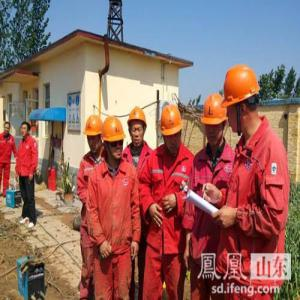none: (21, 122, 30, 140), (4, 121, 11, 136)
yellow: (223, 62, 263, 139), (201, 94, 229, 150), (161, 104, 185, 155), (101, 115, 125, 164), (84, 114, 105, 156), (128, 106, 148, 148)
